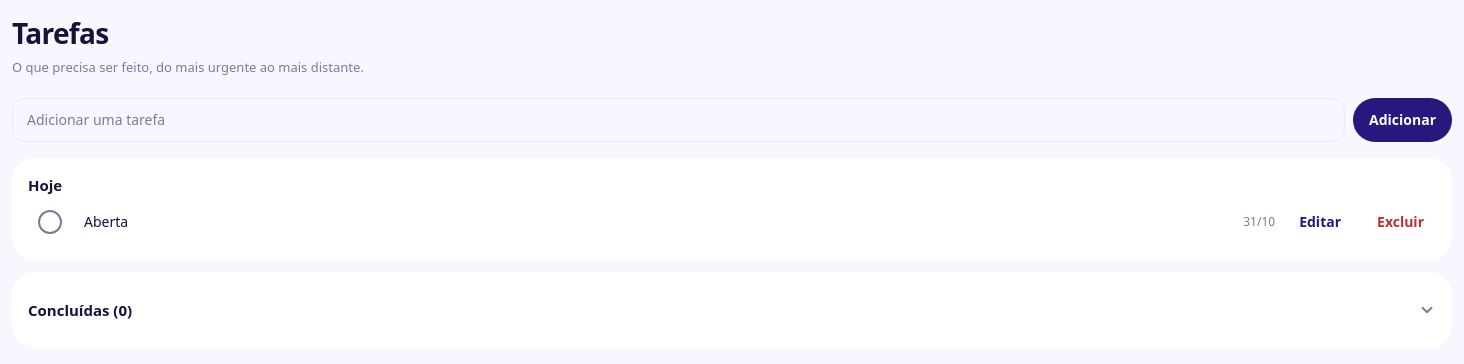
Test case: TarefasPage › erroAoConcluirMostraAlertaNaPagina
Click the button named "Marcar como feita: Aberta" at (50, 222), box [28, 200, 72, 244]
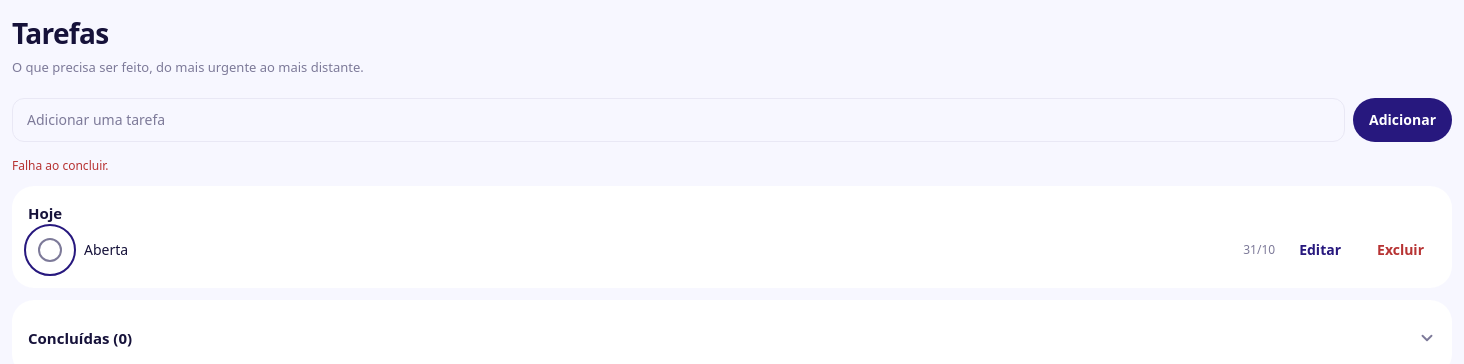
Check: the text "Falha ao concluir." is shown, box [12, 156, 108, 174]
